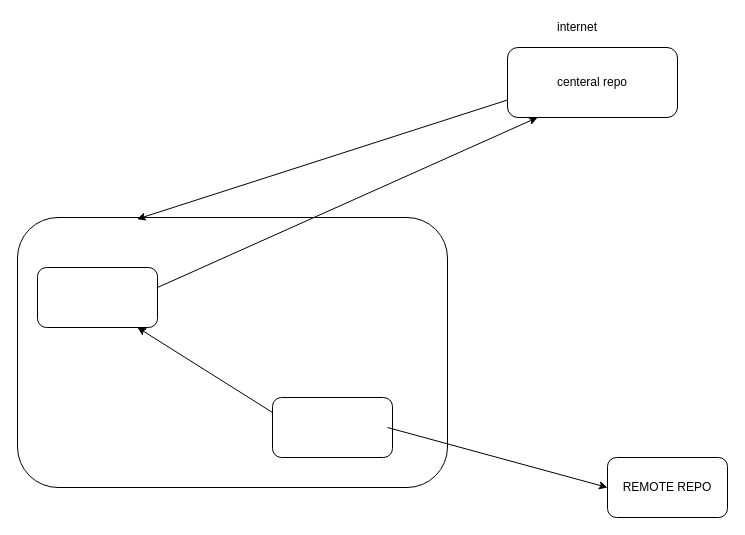
Some shapes in this 745 by 535 pixel diagram are drawn without their labels. The shapes that lost their labels are listed below. From the top down, each one's centre as x and y in pixels, then its label:
(97,297): users/.m2/repo
(332,427): workstation/src /pom.xml
